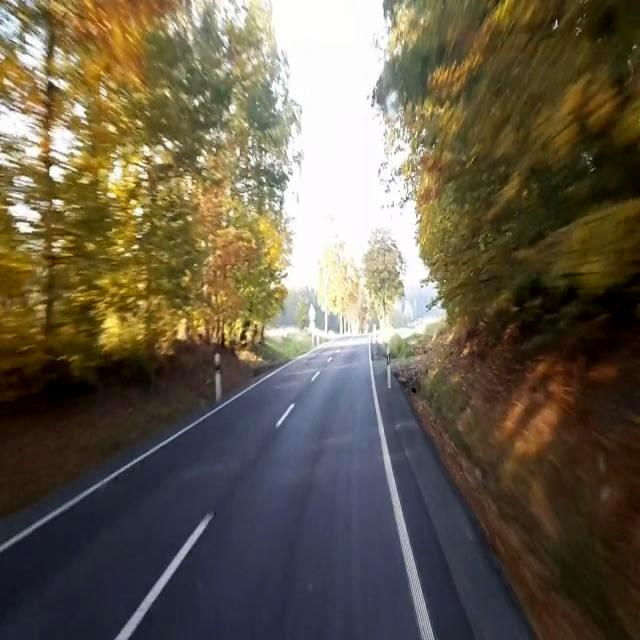lane: (0, 361, 294, 553), (369, 340, 435, 640), (114, 512, 214, 639)
road: (0, 339, 420, 639), (375, 363, 532, 639)
